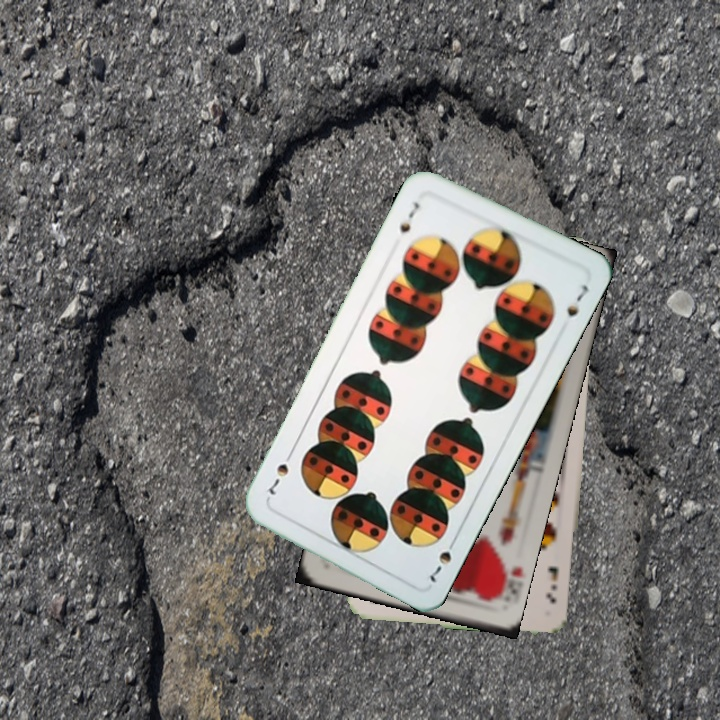E7: (542, 562, 561, 606)
HK: (490, 560, 525, 602)
S7: (425, 533, 460, 586), (395, 197, 422, 236)
